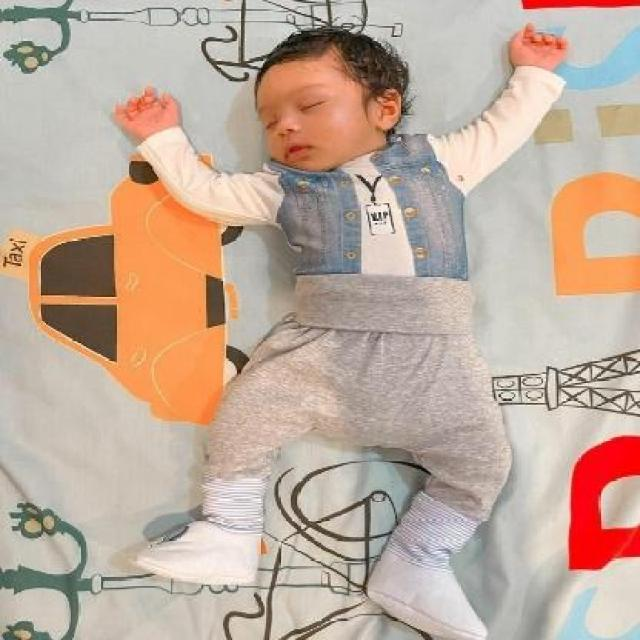baby: (113, 14, 569, 638)
